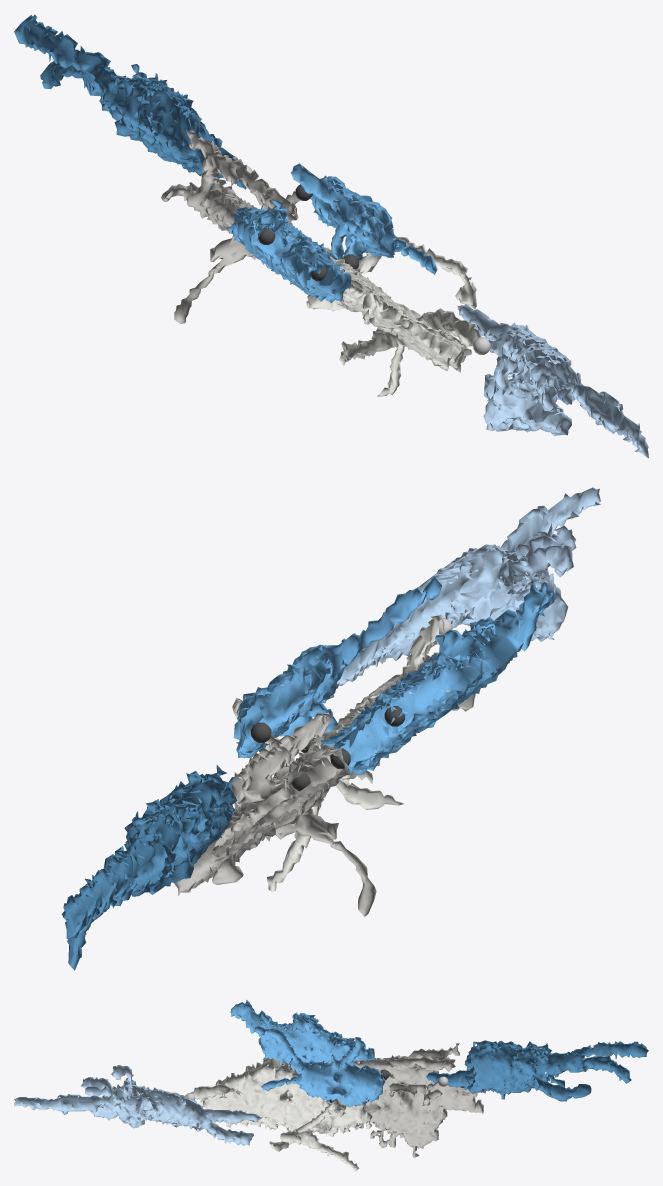
File: sample_1_1_group_1.glb
The picture shows the model from 3 angles, top to bottom: view 1: azimuth 30°, elevation 25°; view 2: azimuth 150°, elevation 25°; view 3: azimuth 270°, elevation 25°; orthographic projection. The views are drawn at different scales.
Visible parts, largest first — view 1: osteocyte_56_elongated, osteocyte_78_elongated, osteocyte_48_untyped, osteocyte_52_untyped, osteocyte_74_elongated, osteocyte_77_elongated; view 2: osteocyte_56_elongated, osteocyte_74_elongated, osteocyte_52_untyped, osteocyte_78_elongated, osteocyte_77_elongated, osteocyte_48_untyped; view 3: osteocyte_48_untyped, osteocyte_78_elongated, osteocyte_52_untyped, osteocyte_56_elongated, osteocyte_77_elongated, osteocyte_74_elongated.
Part boxes in pixels (x1=…): osteocyte_56_elongated: x1=457, y1=304, x2=648, y2=458; osteocyte_78_elongated: x1=14, y1=14, x2=246, y2=189; osteocyte_48_untyped: x1=290, y1=235, x2=482, y2=396; osteocyte_52_untyped: x1=161, y1=130, x2=302, y2=323; osteocyte_74_elongated: x1=226, y1=200, x2=351, y2=302; osteocyte_77_elongated: x1=290, y1=163, x2=437, y2=274; osteocyte_56_elongated: x1=322, y1=487, x2=600, y2=703; osteocyte_74_elongated: x1=321, y1=581, x2=555, y2=774; osteocyte_52_untyped: x1=174, y1=712, x2=376, y2=916; osteocyte_78_elongated: x1=61, y1=765, x2=236, y2=970; osteocyte_77_elongated: x1=233, y1=576, x2=441, y2=758; osteocyte_48_untyped: x1=232, y1=614, x2=475, y2=891; osteocyte_48_untyped: x1=190, y1=1058, x2=371, y2=1171; osteocyte_78_elongated: x1=426, y1=1040, x2=648, y2=1101; osteocyte_52_untyped: x1=353, y1=1043, x2=485, y2=1157; osteocyte_56_elongated: x1=14, y1=1065, x2=262, y2=1145; osteocyte_77_elongated: x1=254, y1=1025, x2=389, y2=1107; osteocyte_74_elongated: x1=230, y1=999, x2=376, y2=1070.
Bounding box in the file's own units: 33.22 × 33.31 × 143.
